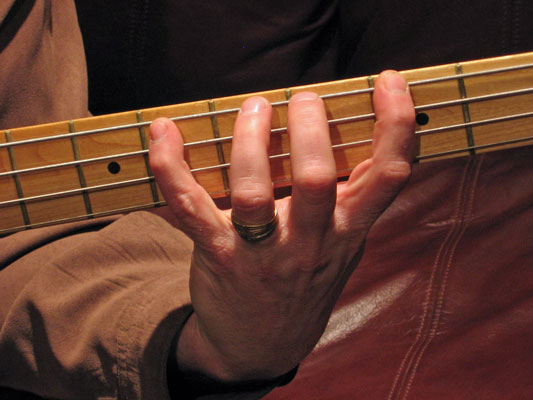finger: (346, 66, 413, 227), (146, 117, 227, 235), (287, 93, 344, 225), (234, 94, 278, 231)
